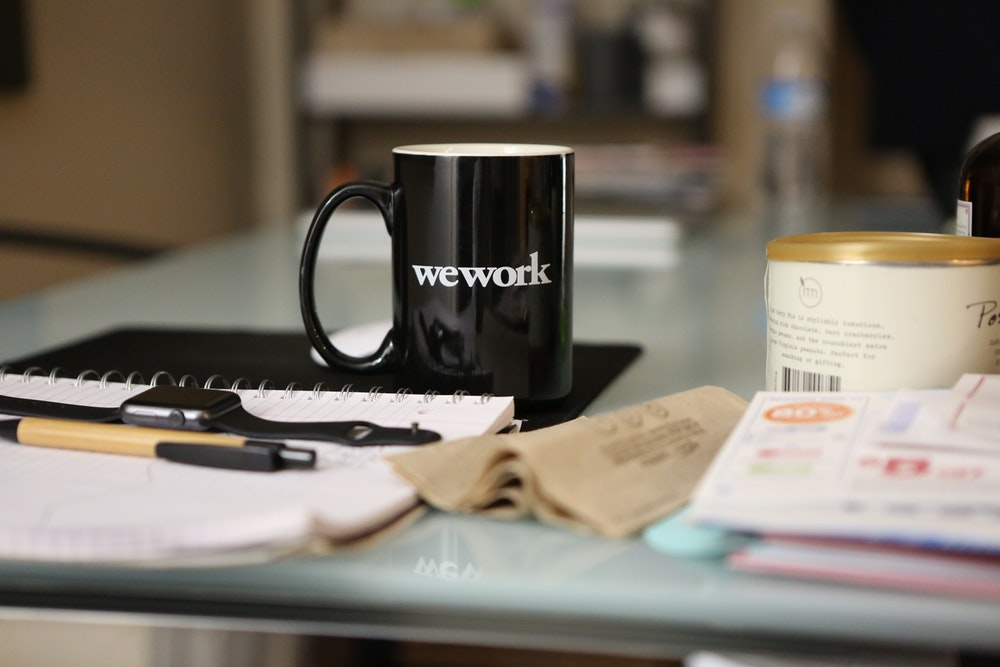wework: (409, 248, 553, 290)
